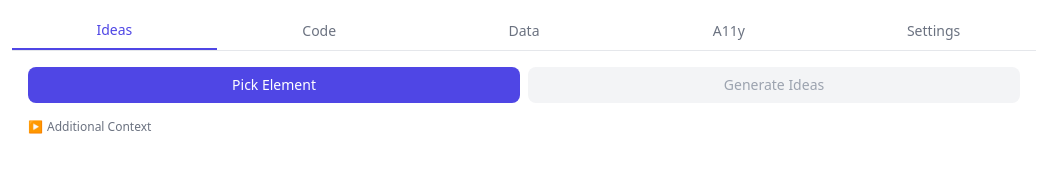
App › switches to Code tab on click
Click the tab "Code" at coordinates (319, 31), box [217, 12, 422, 50]
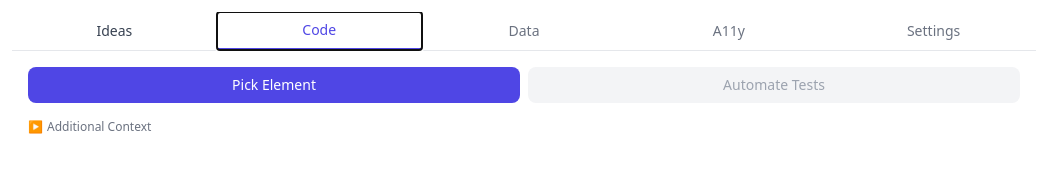
Result: the button "Automate Tests" is shown at [528, 67, 1020, 103]
